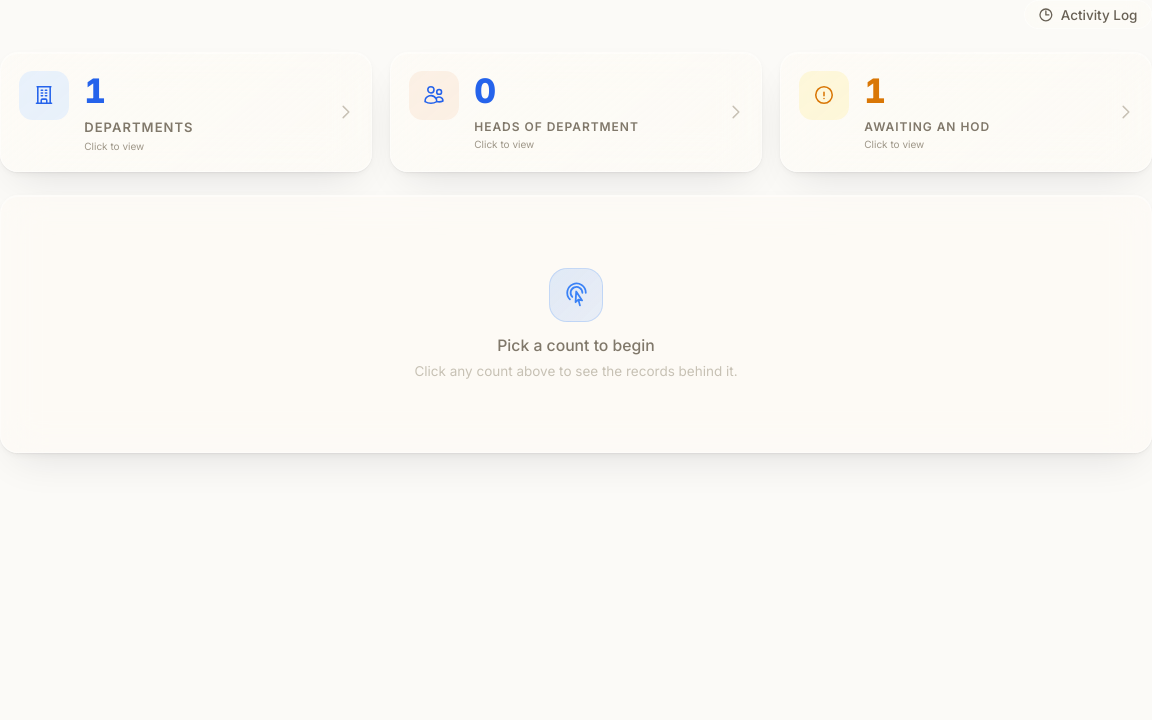
AdminOverviewDrilldown — collapse and accessibility › clicking the active tile again collapses back to the prompt
What coordinates should you click on to do the following:
click the button "1 Departments Click to view"
I would click on:
 (44, 95)
Its box is left=0, top=52, right=372, bottom=172.
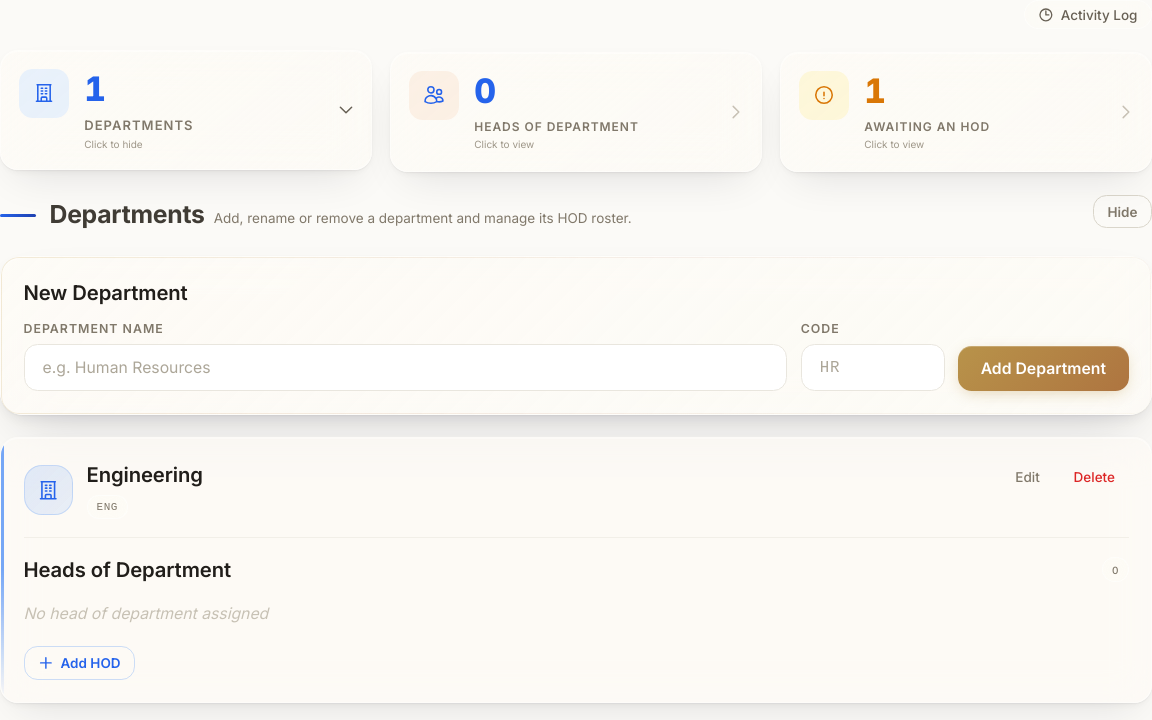
Expected: the text "New Department" is shown, left=24, top=280, right=188, bottom=305
What coordinates should you click on to do the following:
click the button "1 Departments Click to hide"
I would click on:
 (44, 93)
Its box is left=0, top=50, right=372, bottom=170.
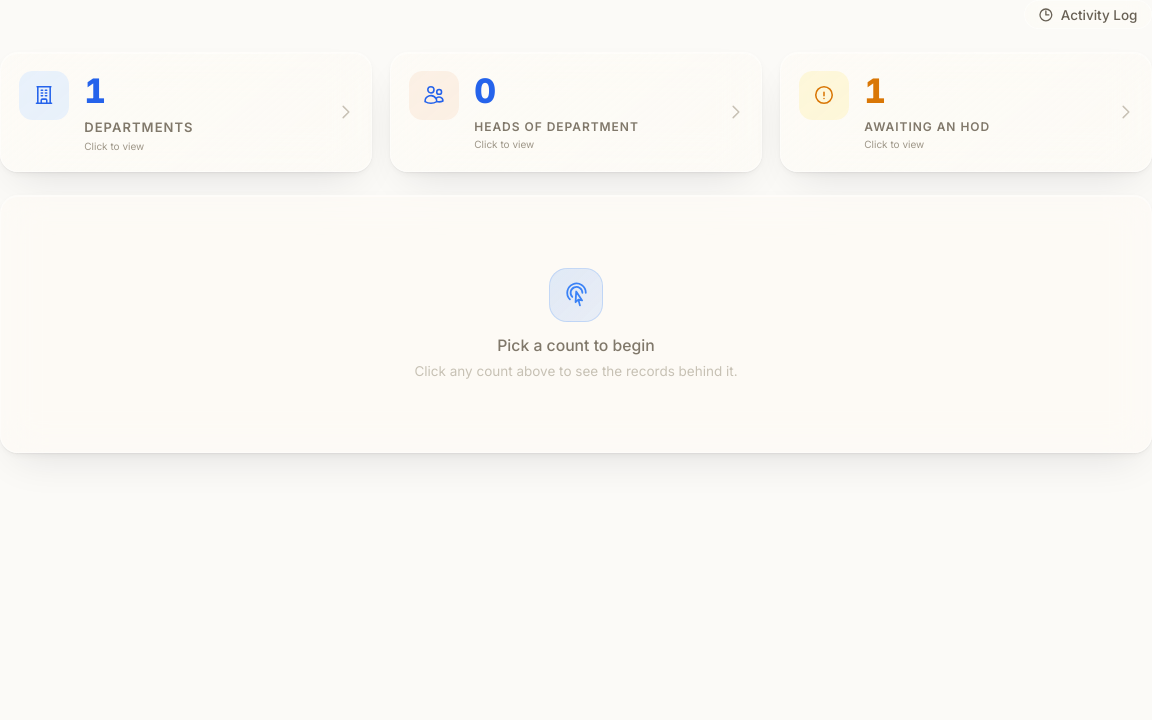
Expected: the text "Pick a count to begin" is shown, left=497, top=336, right=655, bottom=355
Expected: the text "New Department" is gone
